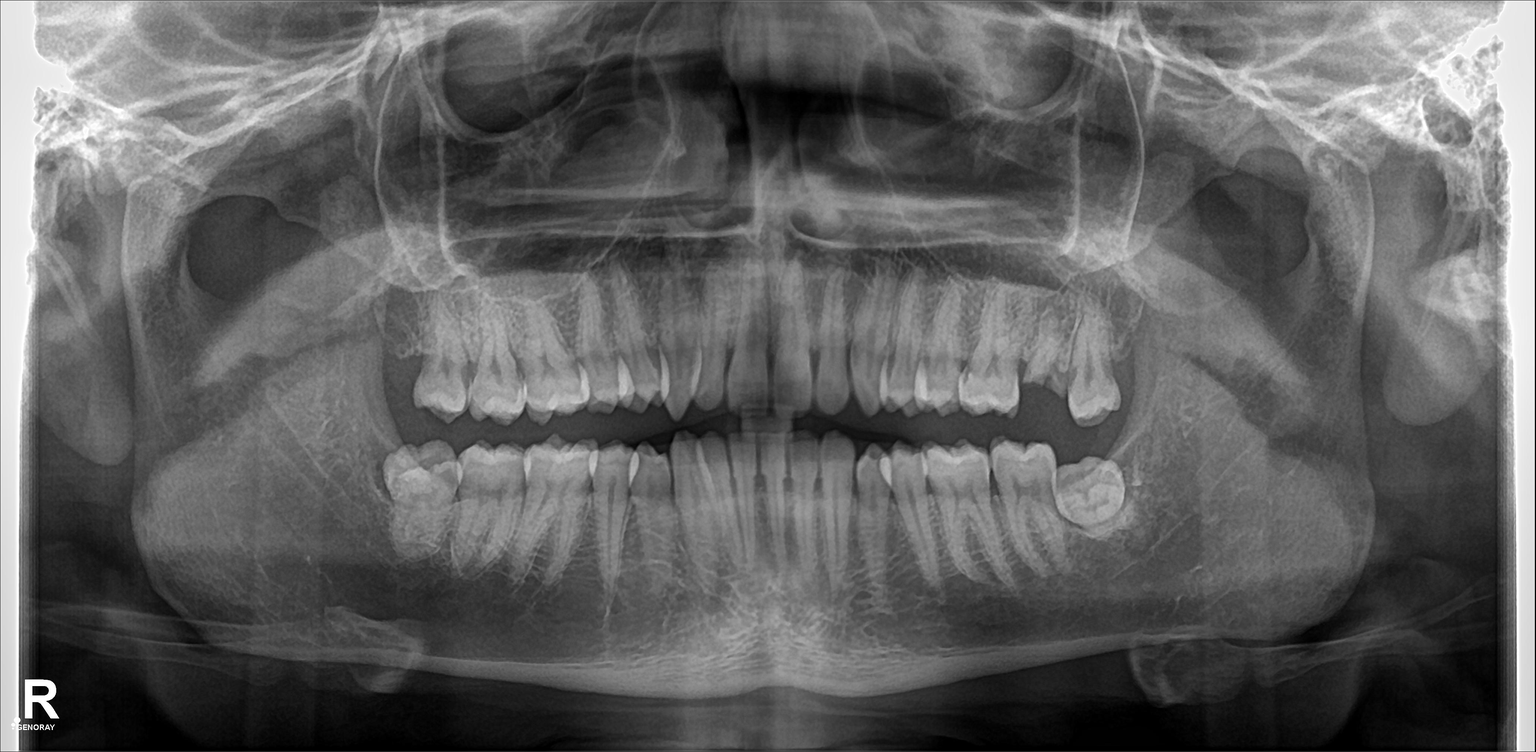Impacted Third Molar: (382, 447, 459, 544), (1058, 454, 1131, 533)
Missing Tooth: (384, 285, 432, 413), (1112, 302, 1161, 405)
Retained Root: (1021, 315, 1070, 411)
